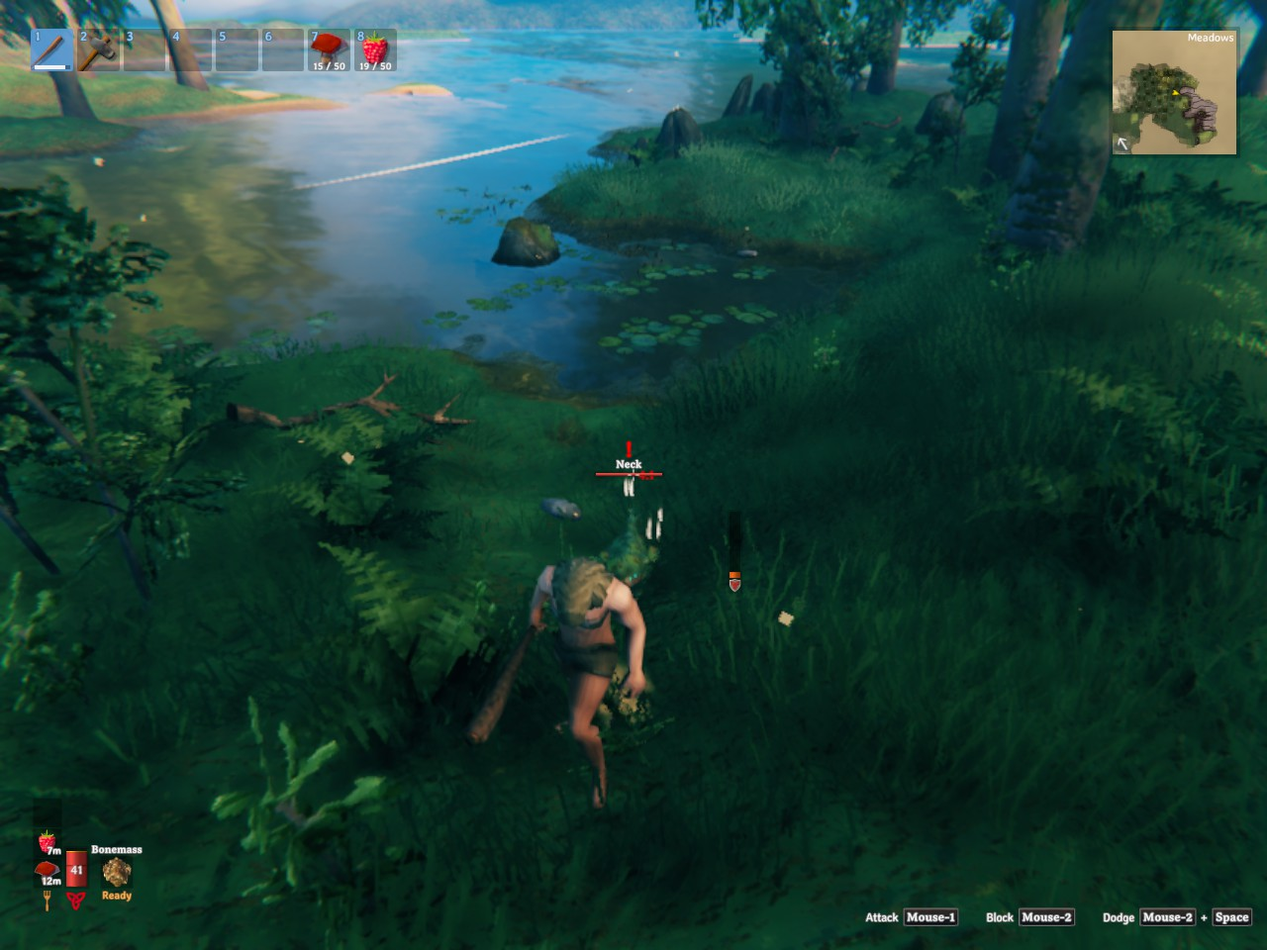Branch: (226, 374, 473, 429)
Flint: (541, 499, 580, 520), (736, 248, 757, 256)
Neck: (598, 513, 657, 585)
